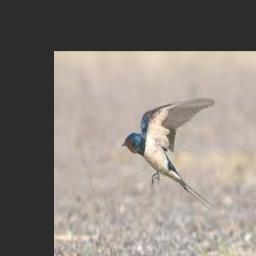Swallow: (122, 97, 215, 209)
